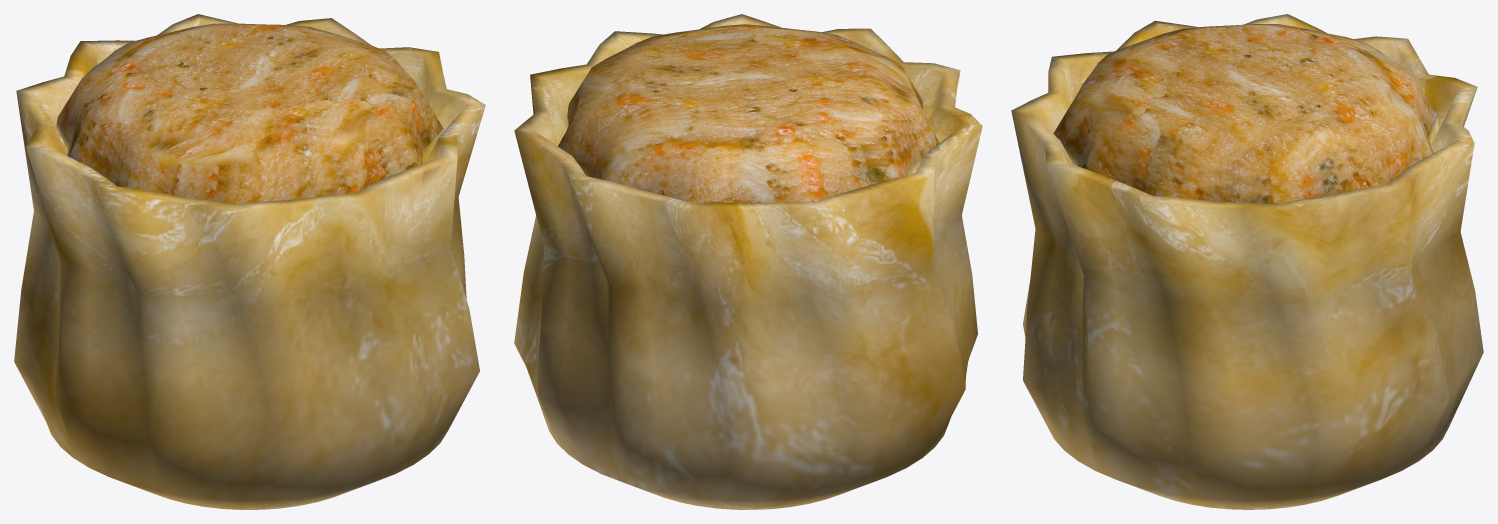
File: Siomay Matang.fbx
The picture shows the model from 3 angles, left to right: view 1: azimuth 30°, elevation 25°; view 2: azimuth 150°, elevation 25°; view 3: azimuth 270°, elevation 25°; orthographic projection.
Visible parts, largest first — view 1: Siomay Matang; view 2: Siomay Matang; view 3: Siomay Matang.
Boxes of the visible parts, box(x1,y1,x2,y2) form: Siomay Matang: box(14, 14, 485, 509); Siomay Matang: box(514, 14, 982, 509); Siomay Matang: box(1011, 14, 1483, 509).
Size of the model in its own units: 3.01 by 2.65 by 3.03.
1 material, 1 textured.
